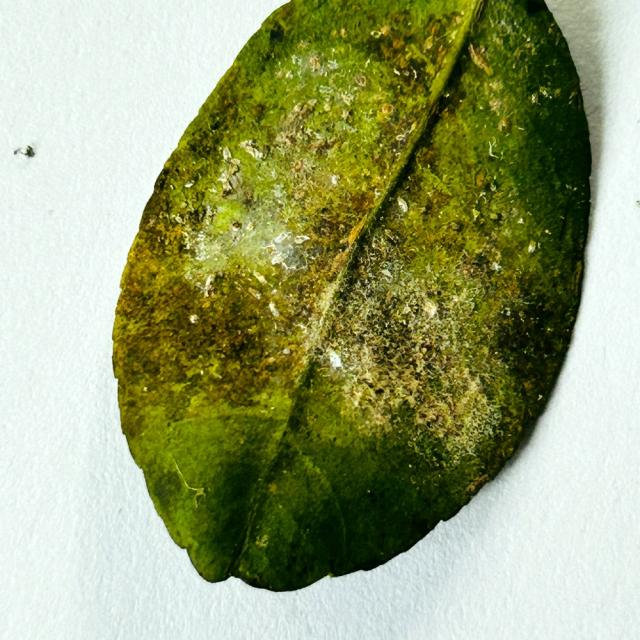Bacterial_Blight: (274, 120, 408, 254), (472, 93, 575, 242), (154, 395, 278, 496), (345, 286, 446, 406), (414, 121, 521, 229), (123, 292, 219, 397), (159, 122, 245, 215), (146, 283, 236, 368), (363, 9, 453, 87), (300, 387, 379, 459), (306, 210, 349, 249), (375, 30, 412, 67), (157, 226, 186, 260)
Lemon: (111, 0, 593, 596)
